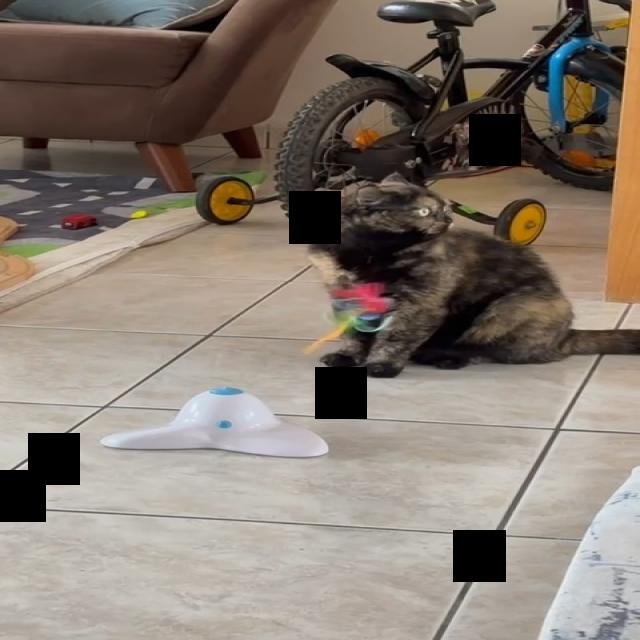authorized: (305, 171, 639, 378)
